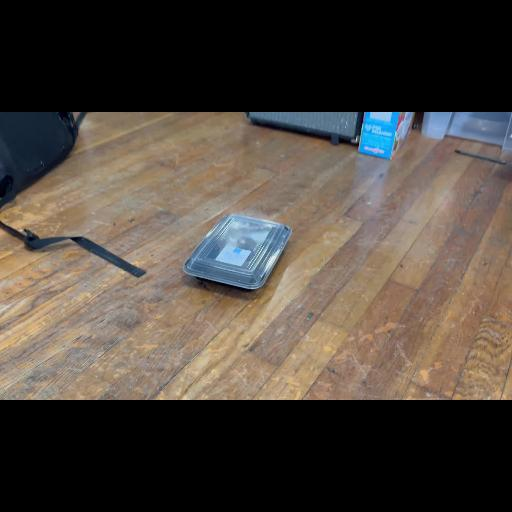rigid_plastic_container: (172, 210, 298, 298)
